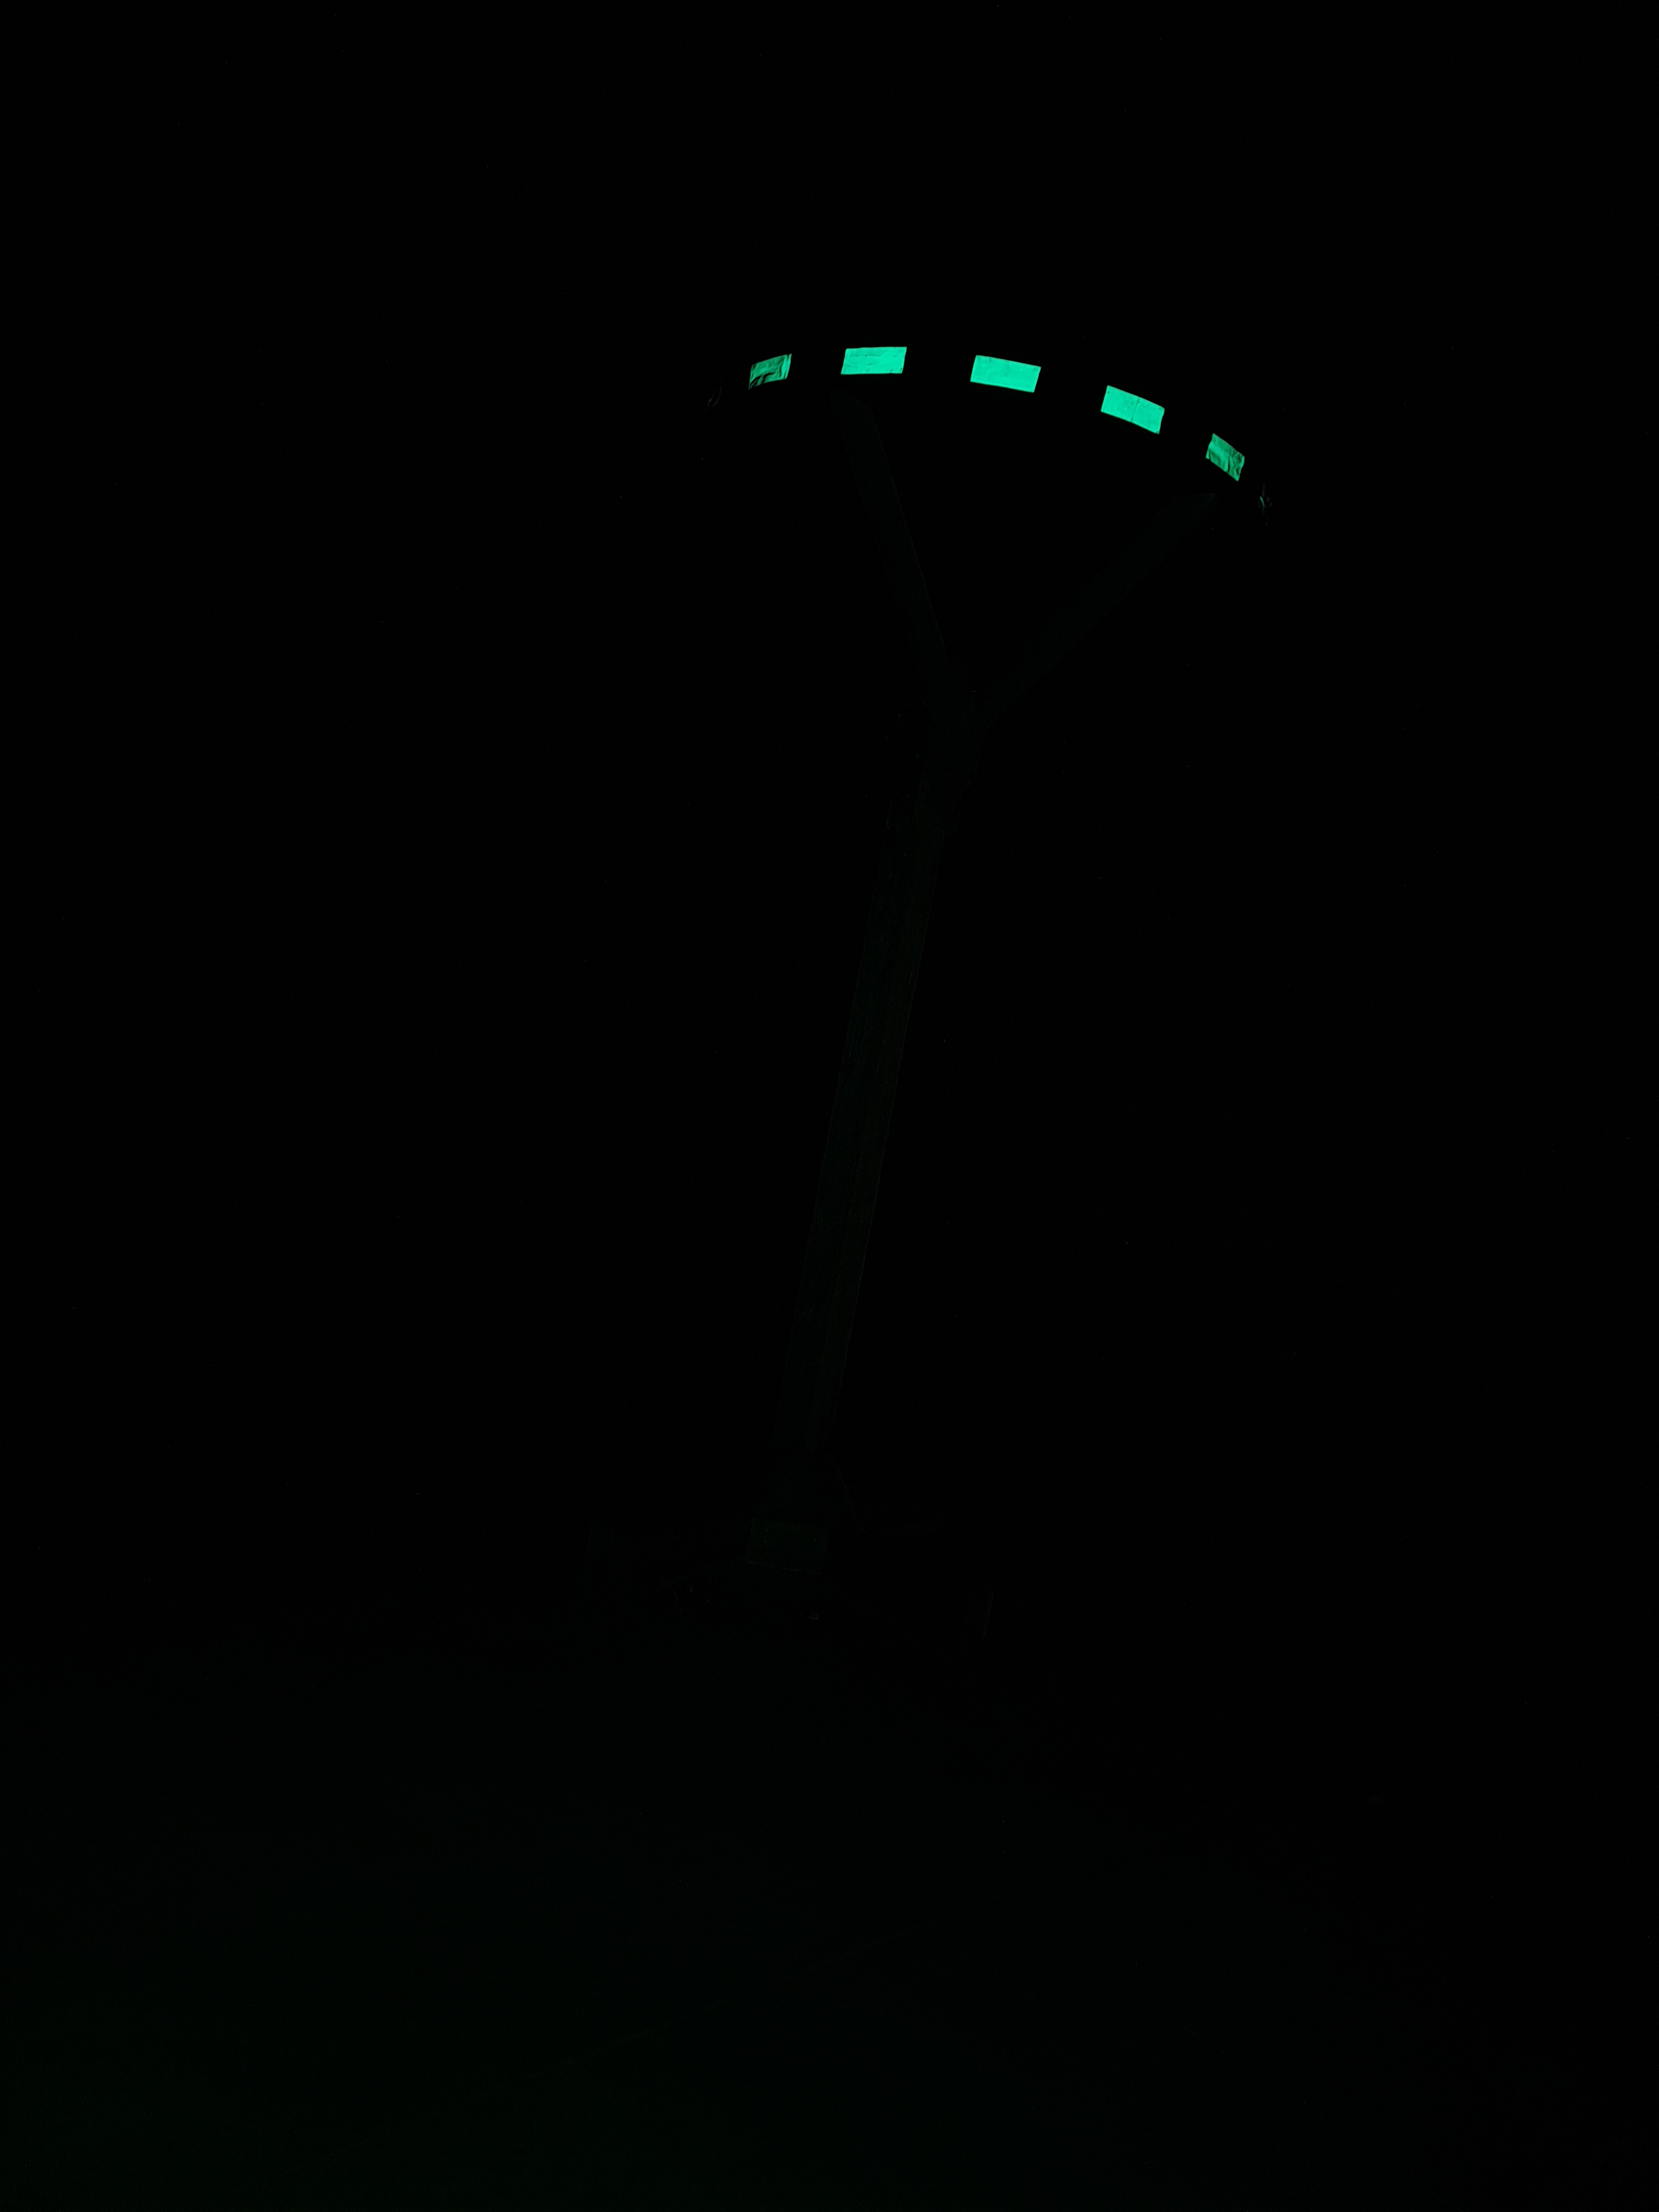hoop: (748, 345, 1246, 482)
